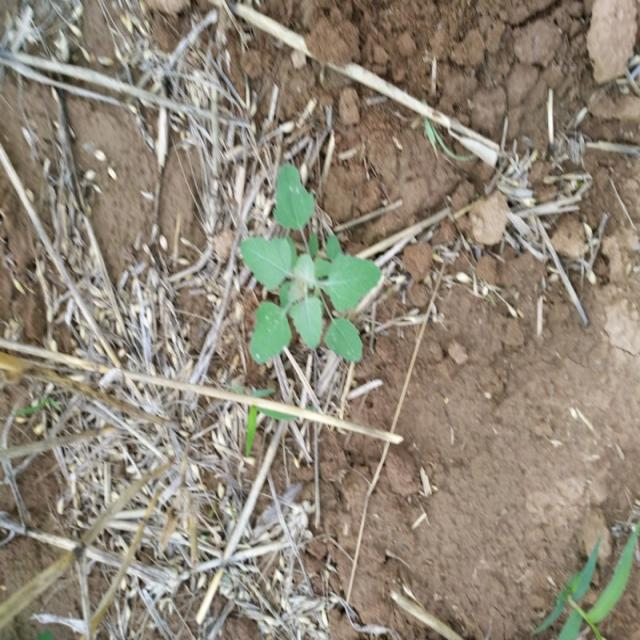goosefoots: (225, 173, 389, 366)
